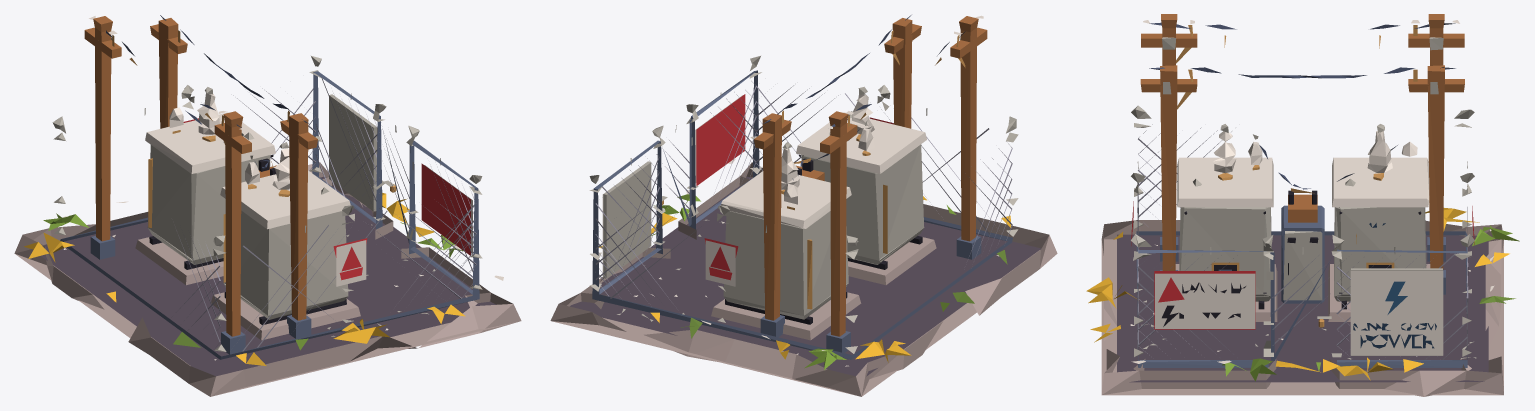
The model's file is bld.power-substation.lod1.glb.
3 renders of one model, left to right at view 1: azimuth 30°, elevation 25°; view 2: azimuth 150°, elevation 25°; view 3: azimuth 270°, elevation 25°, orthographic. The views are drawn at different scales.
Visible parts, largest first — view 1: object 2, object 14, object 13, object 17, object 11, object 6, object 7, object 15, object 12, object 4, object 16, object 8 (+1 smaller); view 2: object 2, object 14, object 13, object 17, object 11, object 6, object 7, object 15, object 4, object 12, object 8, object 16 (+1 smaller); view 3: object 11, object 2, object 14, object 13, object 17, object 6, object 12, object 7, object 16, door_gate, object 5, object 15 (+3 smaller).
Boxes of the visible parts, x1,y1,x2,y2 form: object 2: (41,176,496,376); object 14: (52,37,482,351); object 13: (14,162,521,396); object 17: (84,16,317,336); object 11: (63,16,503,360); object 6: (60,71,479,359); object 7: (171,78,476,351); object 15: (183,118,470,280); object 12: (24,193,465,365); object 4: (112,30,289,282); object 16: (149,154,346,324); object 8: (43,213,463,350); object 2: (570,176,1041,376); object 14: (589,37,1018,353); object 13: (550,162,1057,396); object 17: (754,16,987,336); object 11: (602,15,998,366); object 6: (592,70,1012,359); object 7: (595,81,1012,302); object 15: (696,94,893,280); object 4: (781,30,965,309); object 12: (599,196,1010,362); object 8: (651,194,956,369); object 16: (725,154,922,324); object 11: (1130,20,1494,363); object 2: (1117,234,1488,382); object 14: (1131,37,1476,367); object 13: (1101,220,1503,396); object 17: (1140,14,1464,270); object 6: (1136,205,1467,367); object 12: (1086,208,1509,380); object 7: (1137,124,1468,359); object 16: (1162,190,1421,326); door_gate: (1270,247,1331,360); object 5: (1149,22,1455,189); object 15: (1131,201,1474,329).
Bounding box in the file's own units: 6.67 × 4.52 × 7.02.
